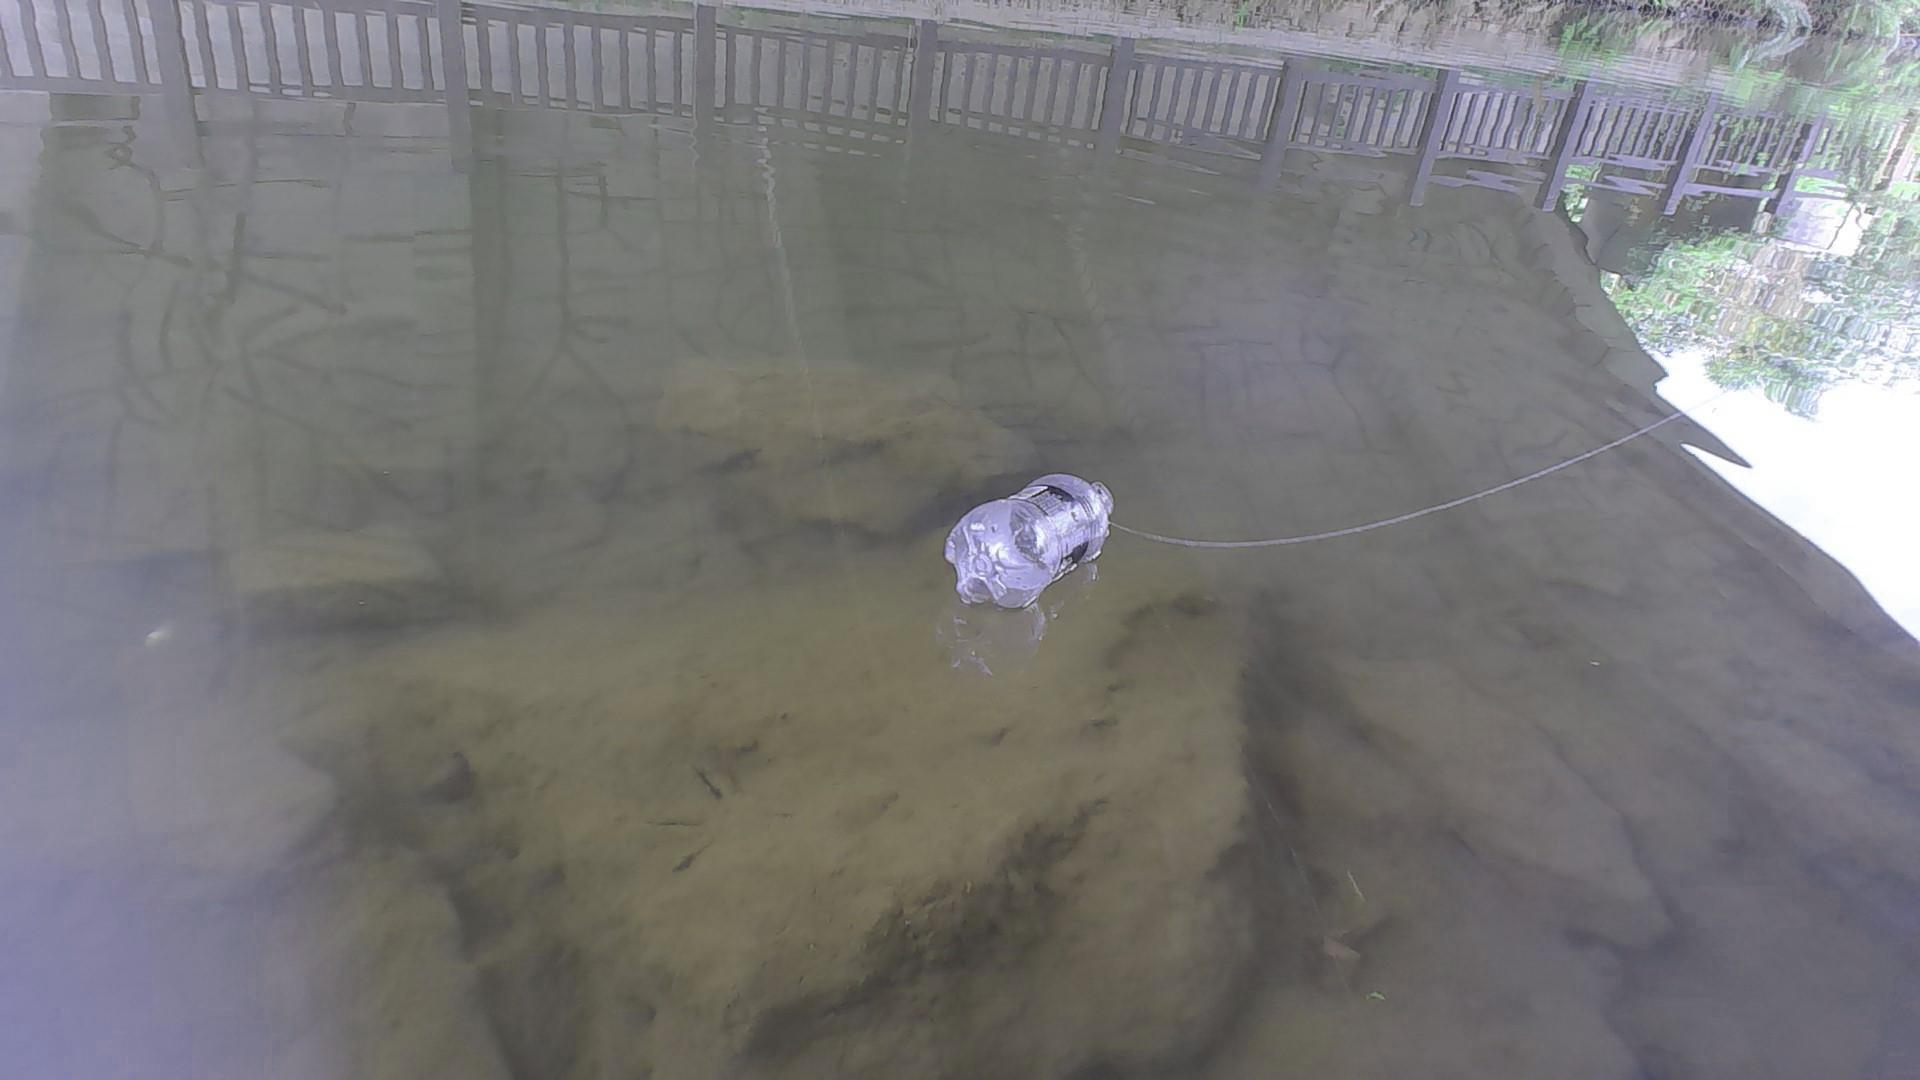Plastic: (942, 465, 1124, 612)
